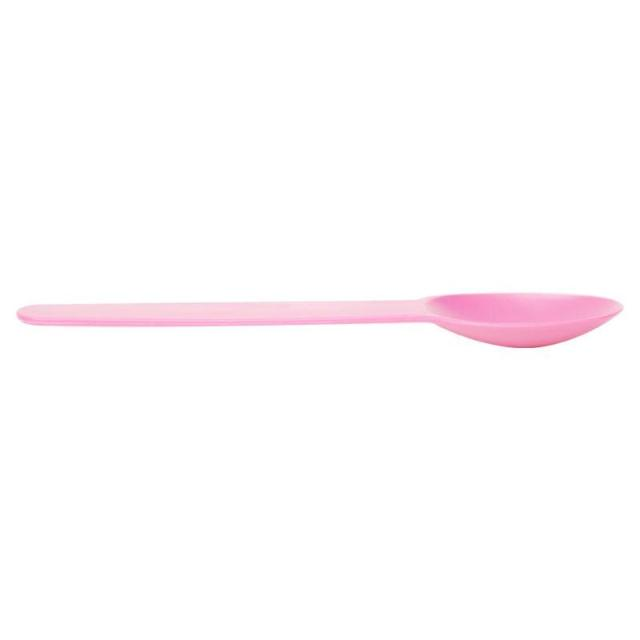spoon: (0, 268, 635, 367)
